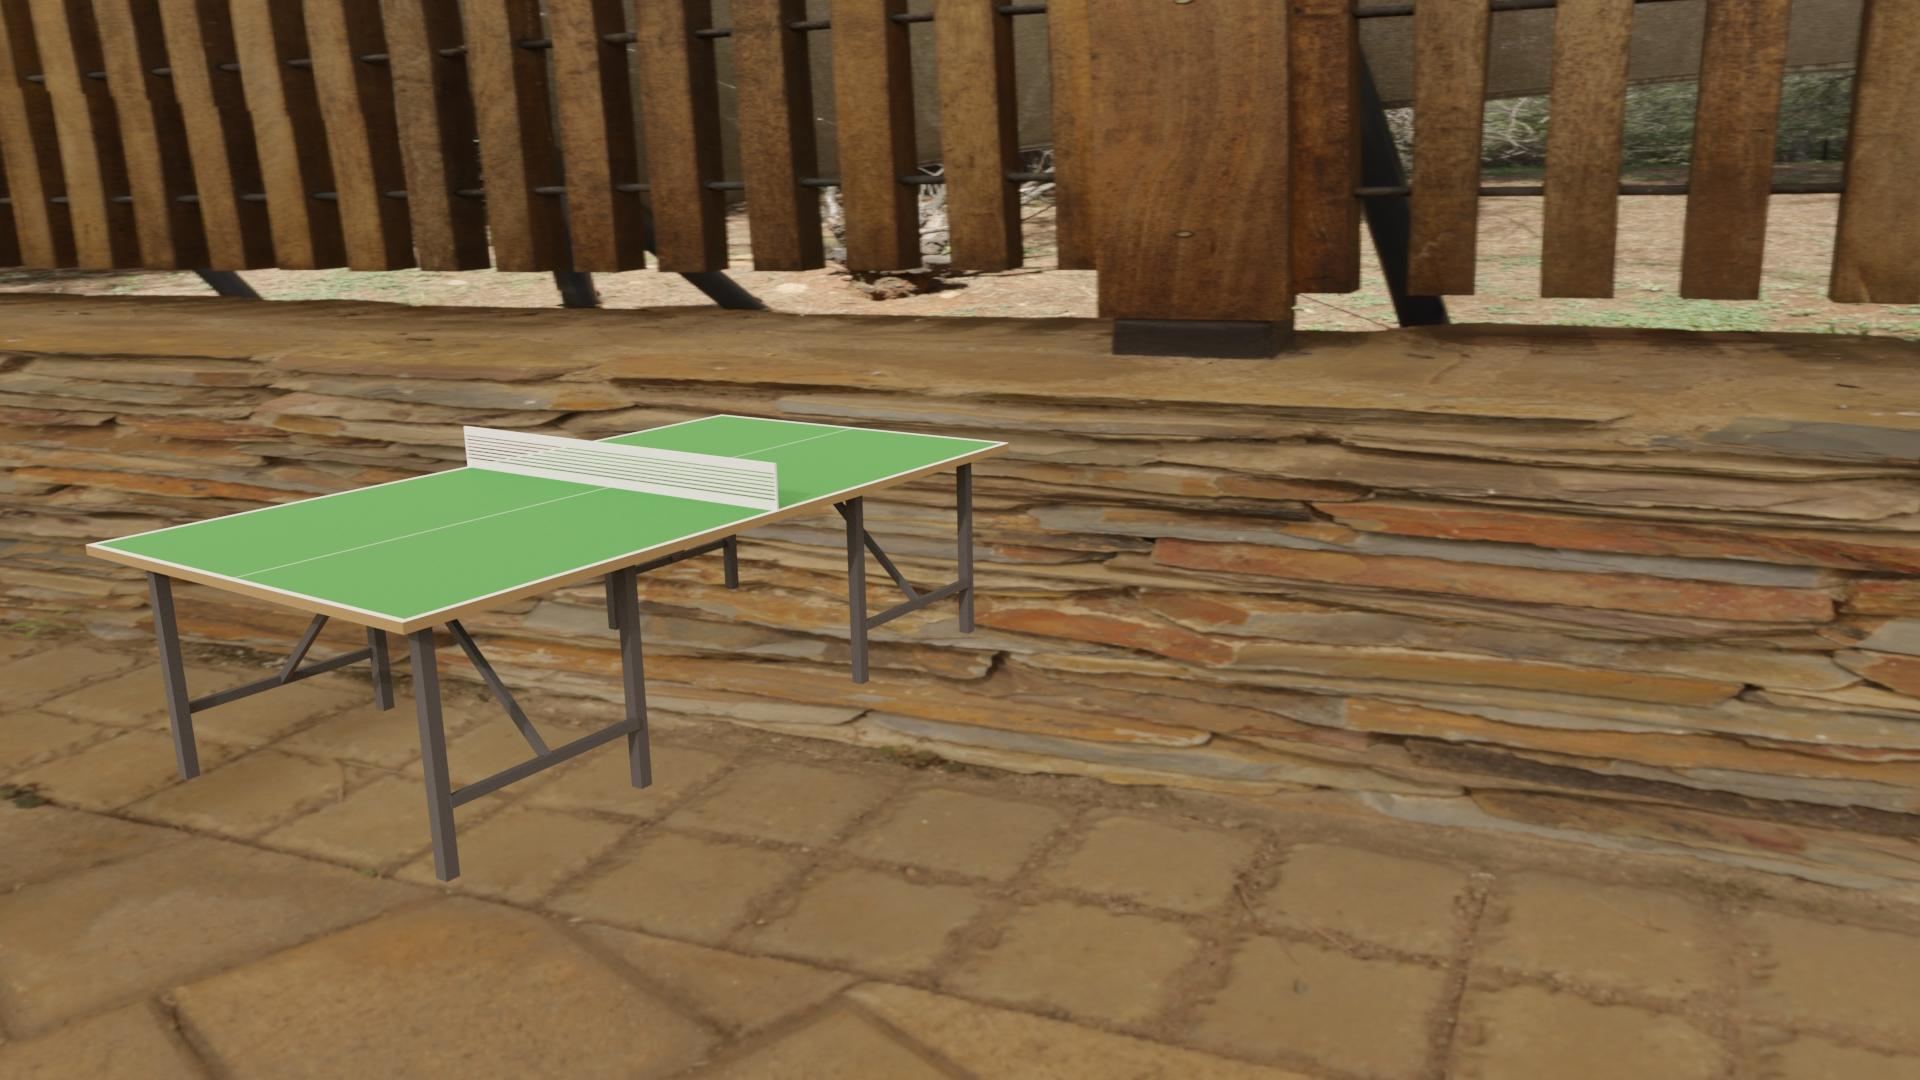table: (96, 415, 1002, 620)
